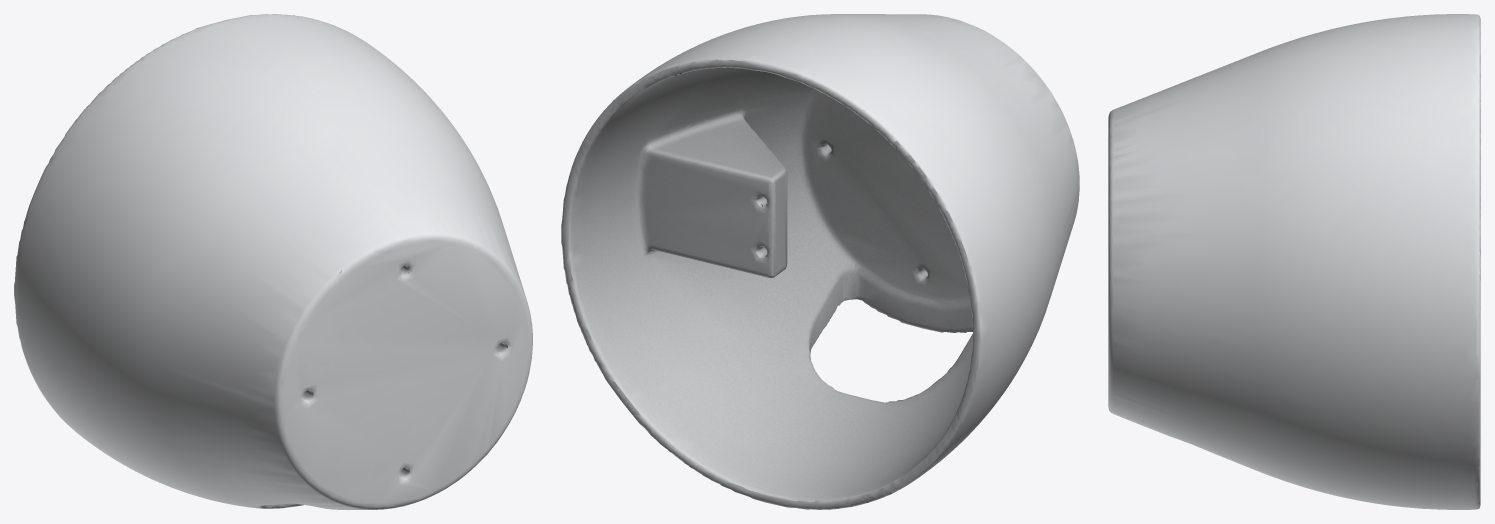
The model's file is right_elbow_to_forarm_upper.obj.
3 views of the same model, side by side, from view 1: azimuth 30°, elevation 25°; view 2: azimuth 150°, elevation 25°; view 3: azimuth 270°, elevation 25° (orthographic).
Parts seen in each view (by area): view 1: right_elbow_to_forarm_upper; view 2: right_elbow_to_forarm_upper; view 3: right_elbow_to_forarm_upper.
Part boxes in pixels (left/top/right/bottom): right_elbow_to_forarm_upper: left=14, top=14, right=532, bottom=509; right_elbow_to_forarm_upper: left=561, top=14, right=1079, bottom=509; right_elbow_to_forarm_upper: left=1108, top=14, right=1480, bottom=509.
Bounding box in the file's own units: 0.073 × 0.073 × 0.0548.
1 material, 1 textured.
